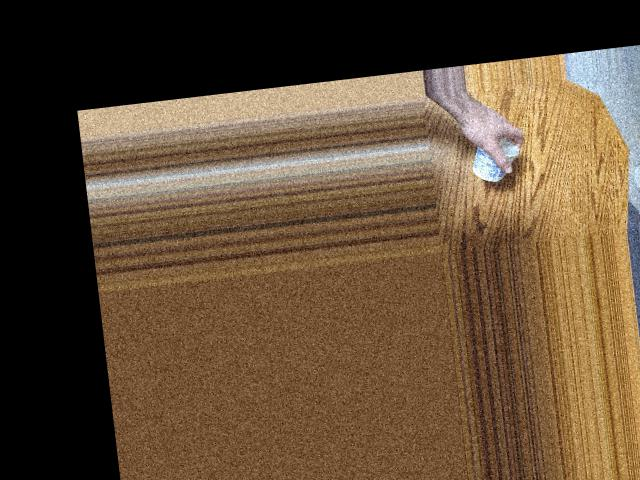cotage: (473, 136, 523, 182)
